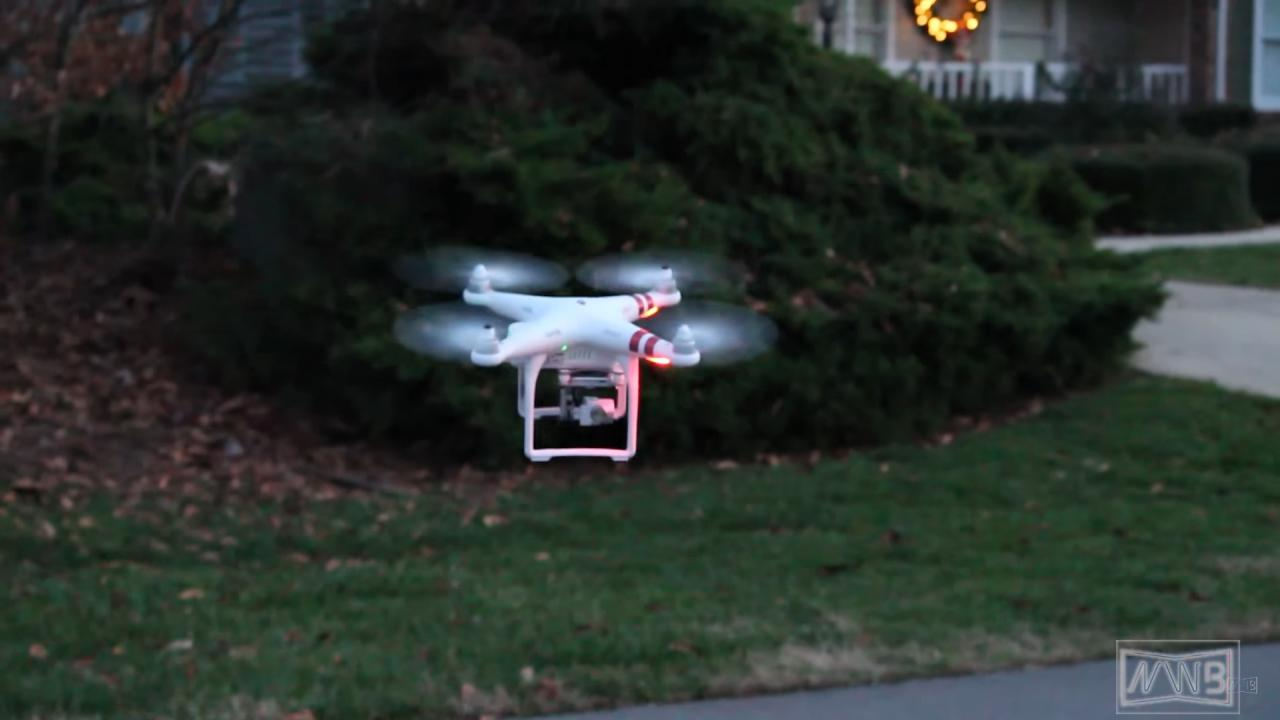Drone: (380, 219, 795, 478)
